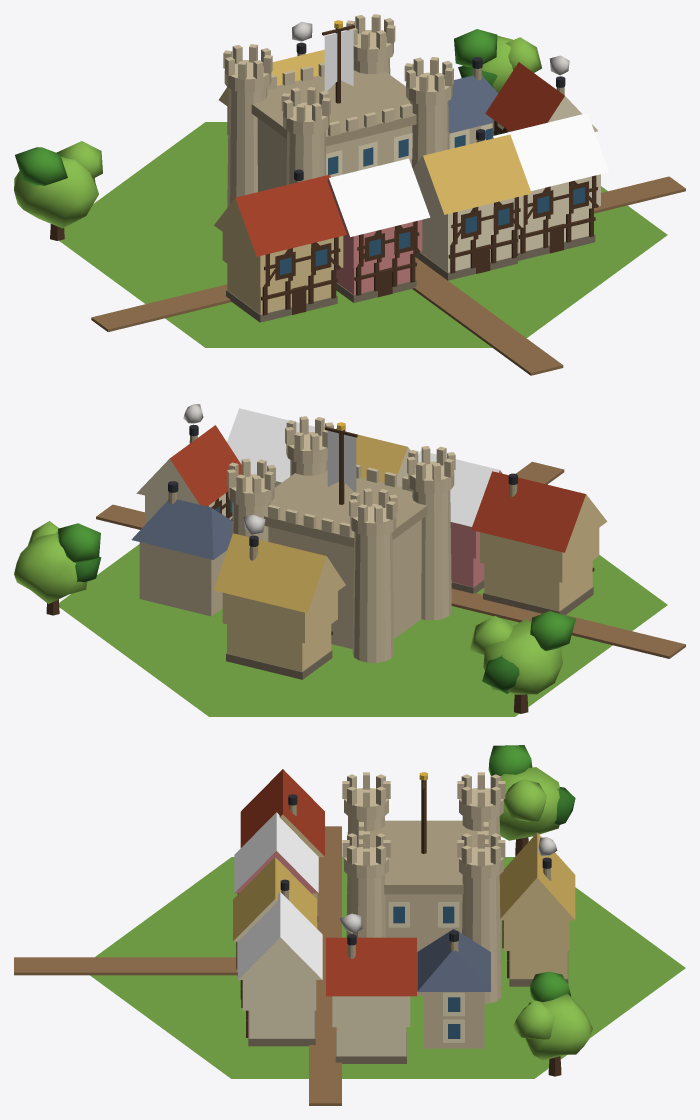
The model's file is city_1_2.fbx.
3 views of the same model, one above another, from view 1: azimuth 30°, elevation 25°; view 2: azimuth 150°, elevation 25°; view 3: azimuth 270°, elevation 25° (orthographic).
Visible parts, largest first — view 1: city_1_2; view 2: city_1_2; view 3: city_1_2.
Boxes of the visible parts, bbox=[...] form: city_1_2: bbox=[14, 14, 685, 375]; city_1_2: bbox=[14, 404, 685, 716]; city_1_2: bbox=[14, 745, 685, 1105].
Bounding box in the file's own units: 227 × 74.15 × 233.
